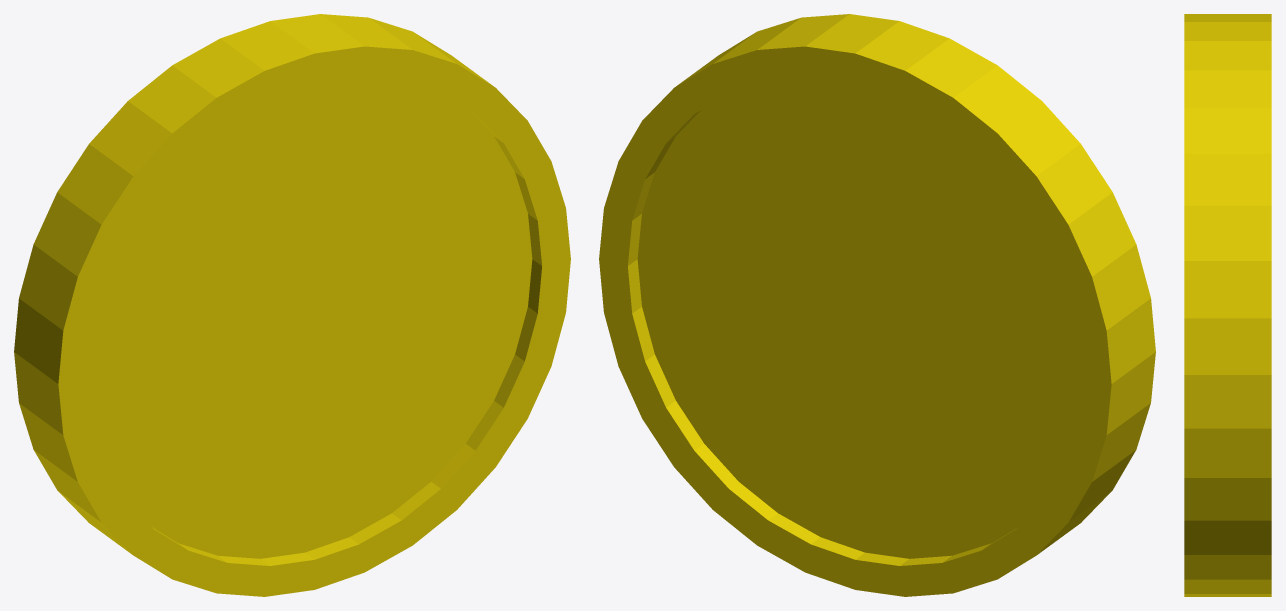
The model's file is Coin.fbx.
The picture shows the model from 3 angles, left to right: view 1: azimuth 30°, elevation 25°; view 2: azimuth 150°, elevation 25°; view 3: azimuth 270°, elevation 25°; orthographic projection.
Visible parts, largest first — view 1: Cylinder; view 2: Cylinder; view 3: Cylinder.
Boxes of the visible parts, <box> form: Cylinder: <box>14,14,570,596</box>; Cylinder: <box>599,14,1155,596</box>; Cylinder: <box>1184,14,1271,596</box>.
Size of the model in its own units: 200 by 200 by 30.
